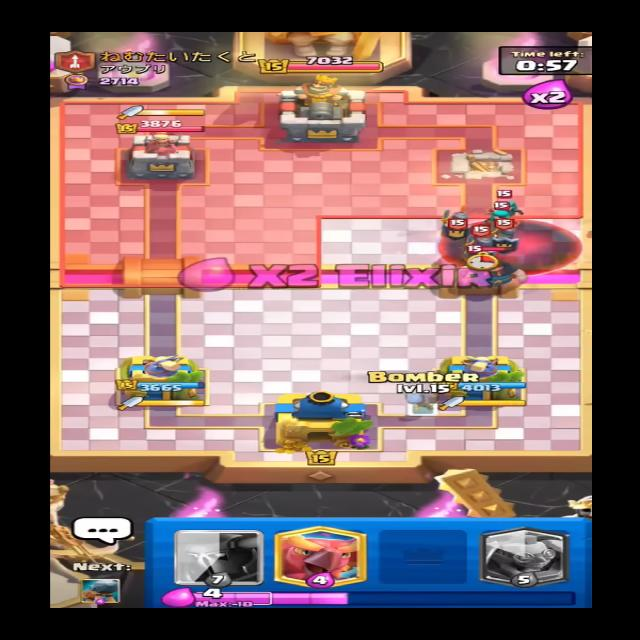guards: (437, 210, 470, 243), (492, 227, 522, 251)
rascal-boy: (458, 250, 535, 288)
rascal-girl: (494, 188, 525, 220), (484, 199, 516, 228)
